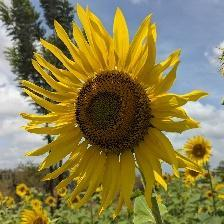sunflower: (30, 15, 200, 206), (185, 131, 218, 164), (22, 208, 56, 224), (187, 157, 203, 189), (68, 195, 83, 209), (15, 183, 29, 198), (205, 188, 217, 202), (47, 195, 60, 206), (57, 186, 67, 199), (31, 200, 43, 210), (161, 174, 171, 185)
